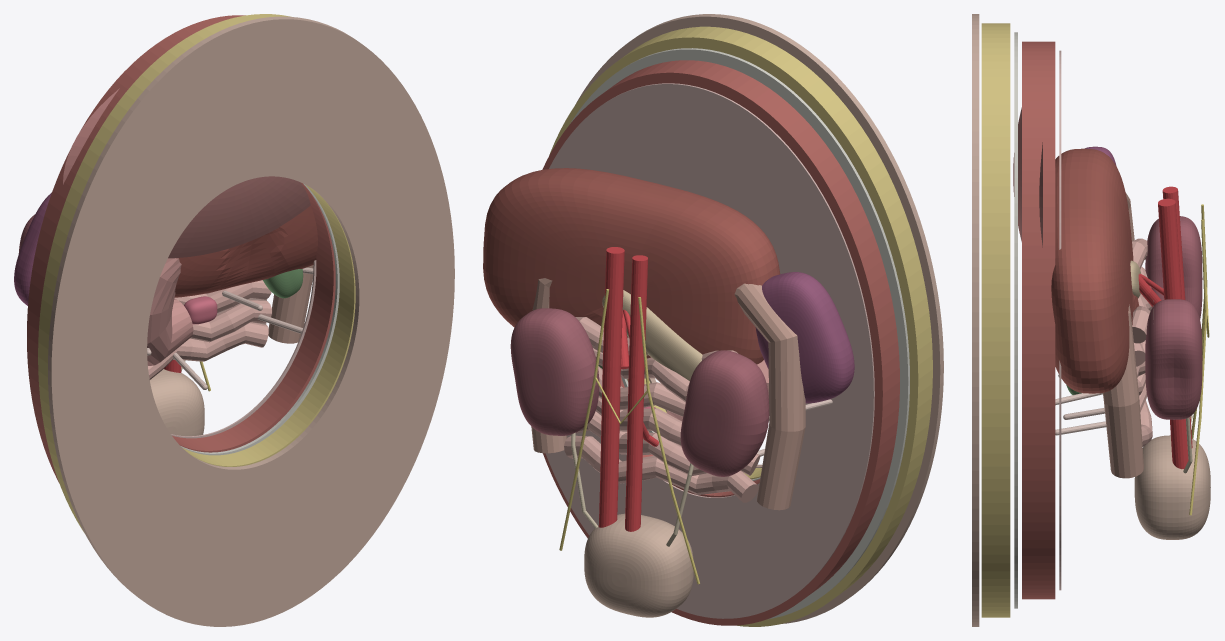
Rendered from dranmar_patient_end_inspiration.glb.
3 renders of one model, left to right at view 1: azimuth 30°, elevation 25°; view 2: azimuth 150°, elevation 25°; view 3: azimuth 270°, elevation 25°, orthographic. The views are drawn at different scales.
Visible parts, largest first — view 1: skin, abdominal_wall, subcutaneous_fat, diaphragm, liver, small_bowel, stomach, bladder, colon, fascia, spleen, adhesions (+3 smaller); view 2: peritoneum, liver, abdominal_wall, subcutaneous_fat, skin, major_vessels, fascia, right_kidney, left_kidney, bladder, small_bowel, colon (+4 smaller); view 3: abdominal_wall, subcutaneous_fat, liver, right_kidney, bladder, skin, colon, major_vessels, left_kidney, fascia, small_bowel, nerves (+3 smaller).
Boxes of the visible parts, x1,y1,x2,y2 form: skin: (48, 16, 454, 626); abdominal_wall: (27, 15, 335, 482); subcutaneous_fat: (38, 14, 355, 533); diaphragm: (63, 88, 310, 258); liver: (174, 205, 317, 297); small_bowel: (148, 280, 271, 379); stomach: (147, 258, 193, 365); bladder: (150, 369, 204, 436); colon: (268, 265, 313, 343); fascia: (181, 184, 339, 455); spleen: (14, 192, 51, 305); adhesions: (147, 267, 313, 389); peritoneum: (545, 83, 874, 618); liver: (483, 168, 780, 364); abdominal_wall: (542, 60, 899, 625); subcutaneous_fat: (549, 26, 932, 626); skin: (575, 14, 943, 623); major_vessels: (598, 247, 658, 531); fascia: (570, 48, 909, 619); right_kidney: (510, 308, 599, 435); left_kidney: (680, 350, 769, 476); bladder: (584, 513, 693, 617); small_bowel: (564, 317, 760, 502); colon: (531, 278, 805, 510); abdominal_wall: (1022, 41, 1055, 599); subcutaneous_fat: (981, 23, 1010, 617); liver: (1051, 148, 1138, 393); right_kidney: (1145, 299, 1202, 419); bladder: (1134, 435, 1210, 539); skin: (972, 14, 979, 626); colon: (1103, 193, 1143, 478); major_vessels: (1138, 186, 1192, 469); left_kidney: (1145, 216, 1202, 319); fascia: (1014, 32, 1017, 608); small_bowel: (1132, 238, 1152, 446); nerves: (1189, 204, 1209, 515).
Bounding box in the file's own units: 0.38 × 0.54 × 0.2005.
